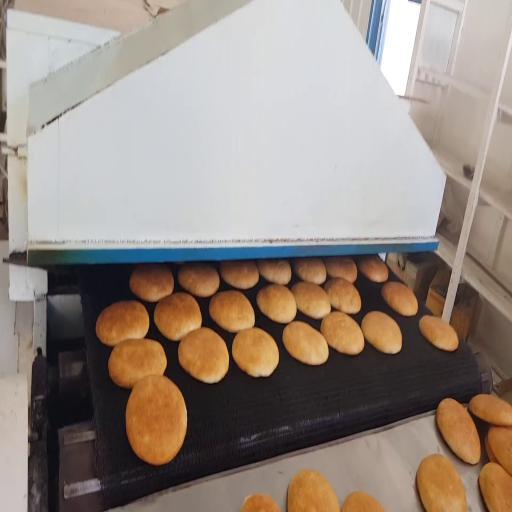bread: (126, 376, 186, 465), (436, 398, 481, 464), (108, 339, 167, 388), (416, 454, 466, 511), (178, 328, 229, 383), (96, 301, 149, 346), (232, 328, 279, 377), (154, 293, 201, 341), (288, 470, 339, 511), (283, 321, 328, 365), (321, 311, 364, 355), (209, 291, 254, 332), (362, 311, 402, 354), (130, 265, 174, 301), (479, 463, 511, 511), (257, 284, 296, 323), (292, 282, 330, 319), (419, 315, 458, 351), (178, 264, 219, 297), (469, 394, 511, 426), (325, 278, 361, 314), (382, 282, 418, 316), (487, 427, 511, 475), (220, 261, 258, 289), (324, 257, 357, 283), (358, 255, 388, 283), (294, 258, 326, 284), (342, 492, 385, 511), (257, 260, 291, 284), (240, 494, 280, 511), (485, 436, 497, 463)
